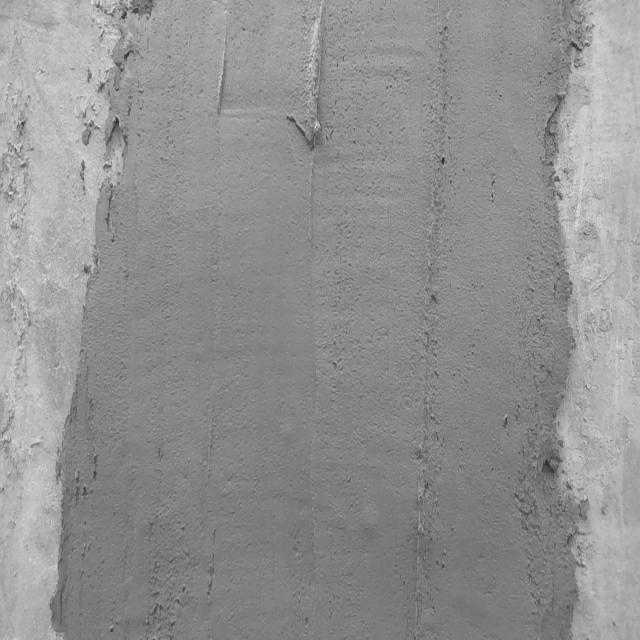trowels marks: (284, 2, 334, 640), (407, 3, 454, 640), (199, 3, 234, 640)
